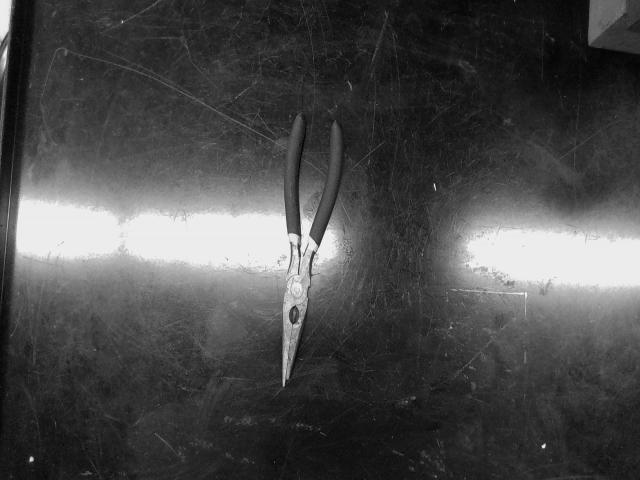Needle-nose pliers: (282, 113, 344, 386)
